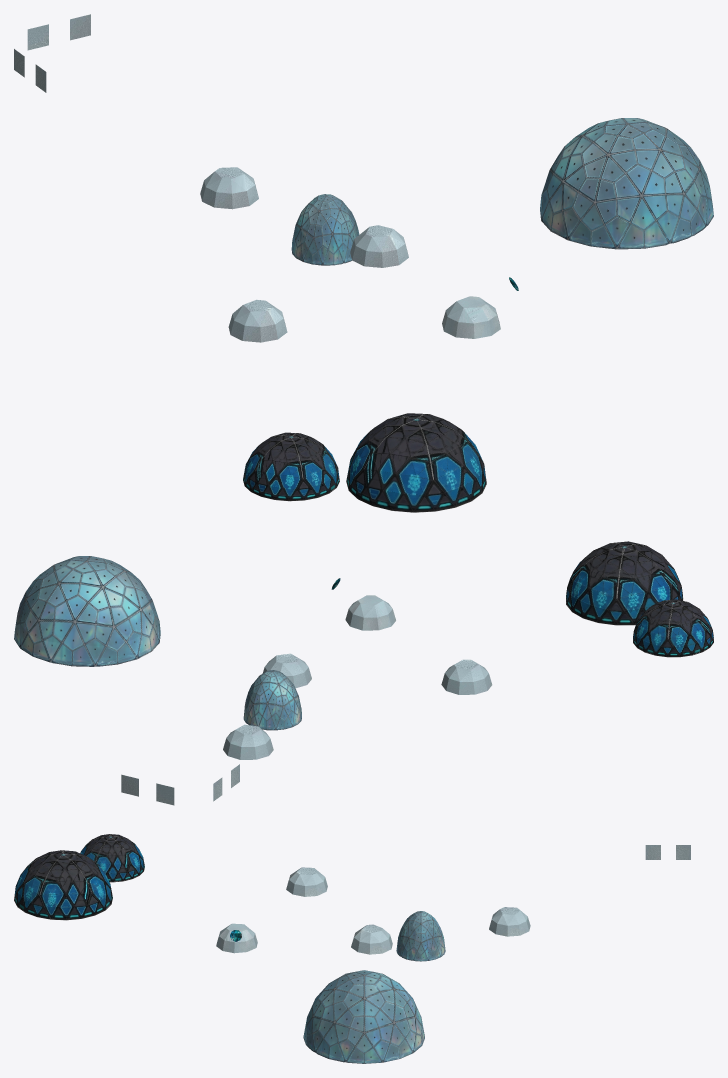
Rendered from PF_CRISTAL.fbx.
3 views of the same model, one above another, from view 1: azimuth 30°, elevation 25°; view 2: azimuth 150°, elevation 25°; view 3: azimuth 270°, elevation 25° (orthographic). The views are drawn at different scales.
Visible parts, largest first — view 1: 1_TRANSLUCIDOS; view 2: 1_TRANSLUCIDOS; view 3: 1_TRANSLUCIDOS.
Boxes of the visible parts, left/top/right/bottom form: 1_TRANSLUCIDOS: left=14, top=14, right=713, bottom=512; 1_TRANSLUCIDOS: left=14, top=541, right=713, bottom=805; 1_TRANSLUCIDOS: left=14, top=834, right=690, bottom=1063.
Bounding box in the file's own units: 8074 × 1213 × 10962.
Materials: 7 (7 with a texture image).
